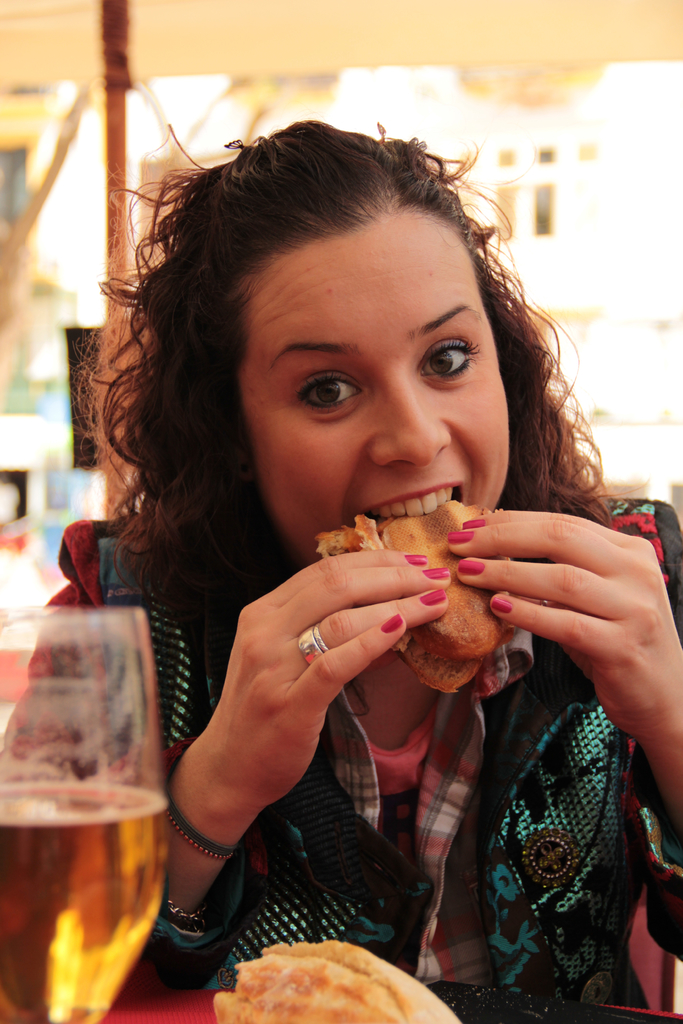Beer: (0, 779, 169, 1023)
